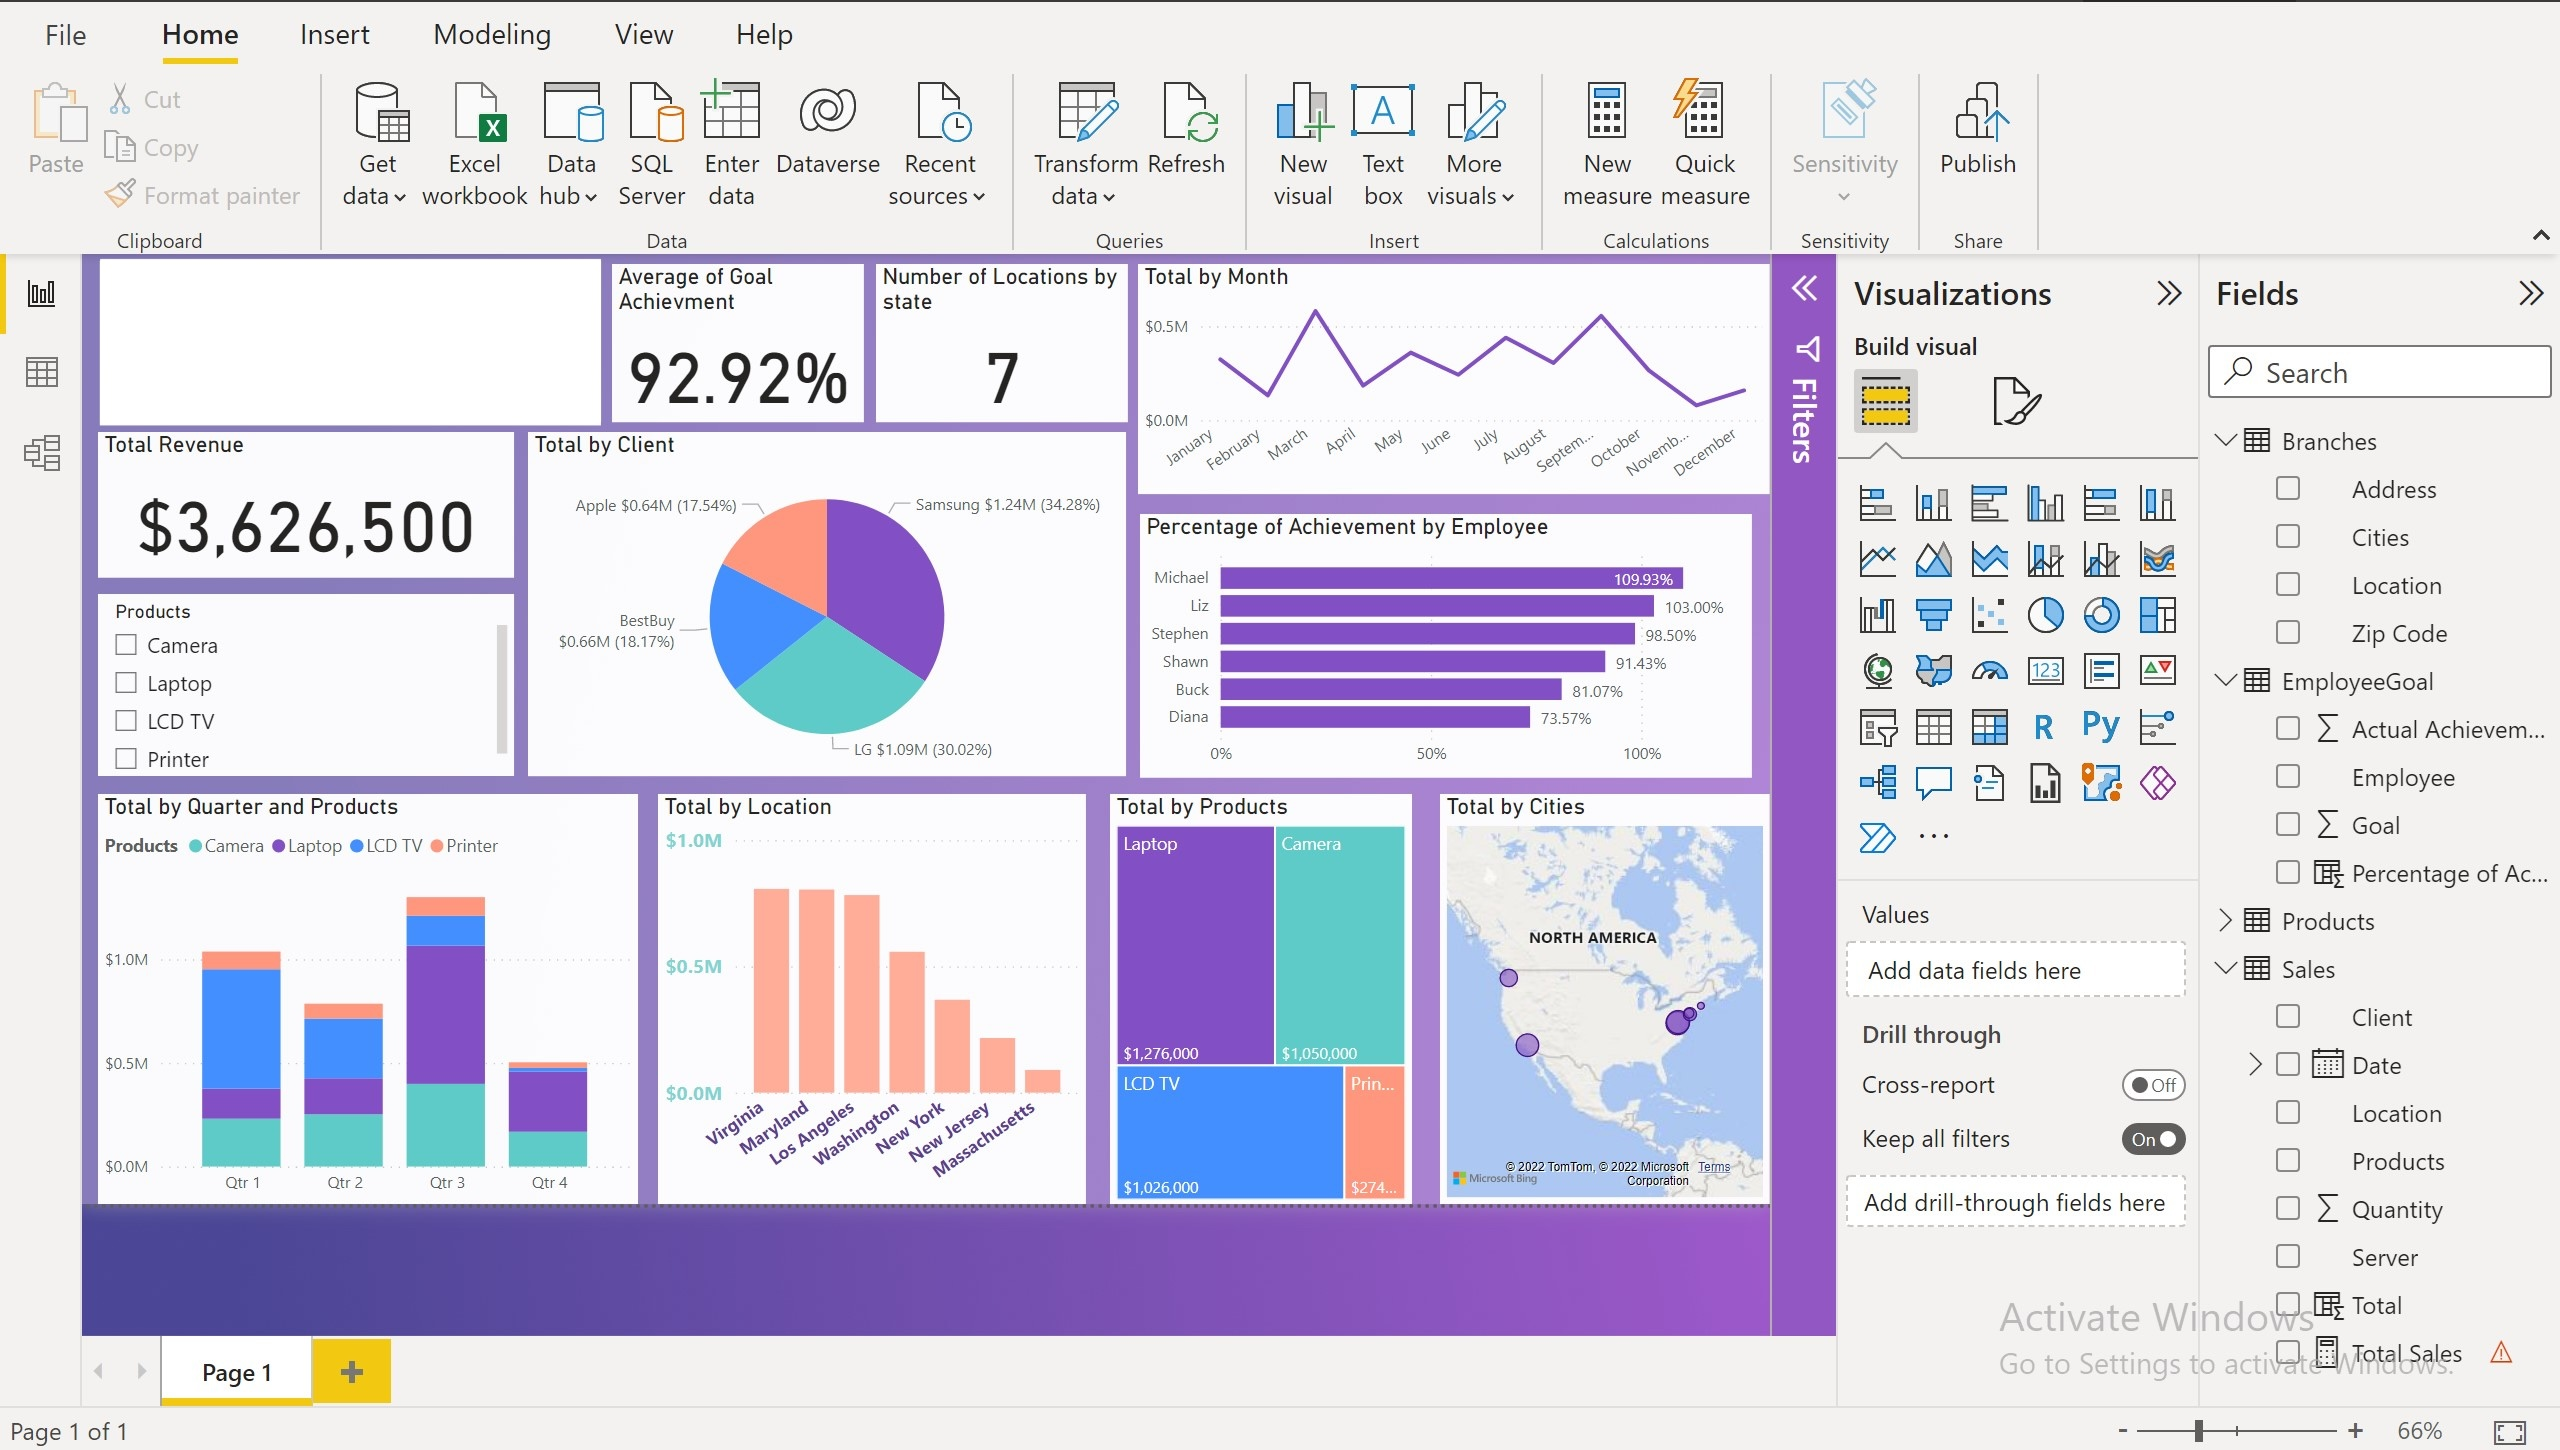

The dashboard page shown, as its layout file describes it:
{"tool":"powerbi","page":{"name":"Page 1","canvas":[1280,720],"ordinal":0},"visuals":[{"type":"clusteredColumnChart","fields":{"Y":["Sales.Total"],"Category":["Sales.Location"]},"box":[436.8,409.5,324.5,312.4],"z":0},{"type":"columnChart","fields":{"Y":["Sales.Total"],"Category":["Sales.Date.Variation.Date Hierarchy.Year","Sales.Date.Variation.Date Hierarchy.Quarter","Sales.Date.Variation.Date Hierarchy.Month","Sales.Date.Variation.Date Hierarchy.Day"],"Series":["Sales.Products"]},"box":[12.1,409.5,409.5,312.4],"z":1000},{"type":"lineChart","fields":{"Y":["Sales.Total"],"Category":["Sales.Date.Variation.Date Hierarchy.Year","Sales.Date.Variation.Date Hierarchy.Quarter","Sales.Date.Variation.Date Hierarchy.Month","Sales.Date.Variation.Date Hierarchy.Day"]},"box":[800.8,7.6,479.2,174.4],"z":2000},{"type":"barChart","fields":{"Y":["EmployeeGoal.Percentage of Achievement"],"Category":["EmployeeGoal.Employee"]},"box":[802.3,197.2,464.1,200.2],"z":3000},{"type":"pieChart","fields":{"Category":["Sales.Client"],"Y":["Sales.Total"]},"box":[338.2,135,453.5,260.9],"z":4000},{"type":"treemap","fields":{"Values":["Sales.Total"],"Group":["Sales.Products"]},"box":[779.5,409.5,229,312.4],"z":5000},{"type":"map","fields":{"Category":["Branches.Cities"],"Size":["Sales.Total"]},"box":[1029.8,409.5,250.2,310.9],"z":6000},{"type":"slicer","fields":{"Values":["Sales.Products"]},"box":[12.1,257.8,315.5,138],"z":7000},{"type":"card","title":"Total Revenue","fields":{"Values":["Sales.Total"]},"box":[12.1,135,315.5,110.7],"z":8000},{"type":"card","title":"Number of Locations by state","fields":{"Values":["Sales.Location"]},"box":[602.1,7.6,191.1,119.8],"z":9000},{"type":"card","title":"Average of Goal Achievment","fields":{"Values":["EmployeeGoal.Percentage of Achievement"]},"box":[401.9,7.6,191.1,119.8],"z":10000},{"type":"textbox","box":[12.1,7.6,379.1,119.8],"z":10001}]}

Visuals, with their boxes on the page's 1280x720 design canvas (x1, y1, x2, y2). These are canvas units, not pixel positions in the 2560x1450 screenshot, which may show the page scaled, cropped or inside an application window:
clusteredColumnChart - Sales.Total x Sales.Location: (x1=437, y1=410, x2=761, y2=722)
columnChart - Sales.Total x Sales.Date.Variation.Date Hierarchy.Year: (x1=12, y1=410, x2=422, y2=722)
lineChart - Sales.Total x Sales.Date.Variation.Date Hierarchy.Year: (x1=801, y1=8, x2=1280, y2=182)
barChart - EmployeeGoal.Percentage of Achievement x EmployeeGoal.Employee: (x1=802, y1=197, x2=1266, y2=397)
pieChart - Sales.Client x Sales.Total: (x1=338, y1=135, x2=792, y2=396)
treemap - Sales.Total x Sales.Products: (x1=780, y1=410, x2=1008, y2=722)
map - Branches.Cities x Sales.Total: (x1=1030, y1=410, x2=1280, y2=720)
slicer - Sales.Products: (x1=12, y1=258, x2=328, y2=396)
"Total Revenue" card: (x1=12, y1=135, x2=328, y2=246)
"Number of Locations by state" card: (x1=602, y1=8, x2=793, y2=127)
"Average of Goal Achievment" card: (x1=402, y1=8, x2=593, y2=127)
textbox: (x1=12, y1=8, x2=391, y2=127)
